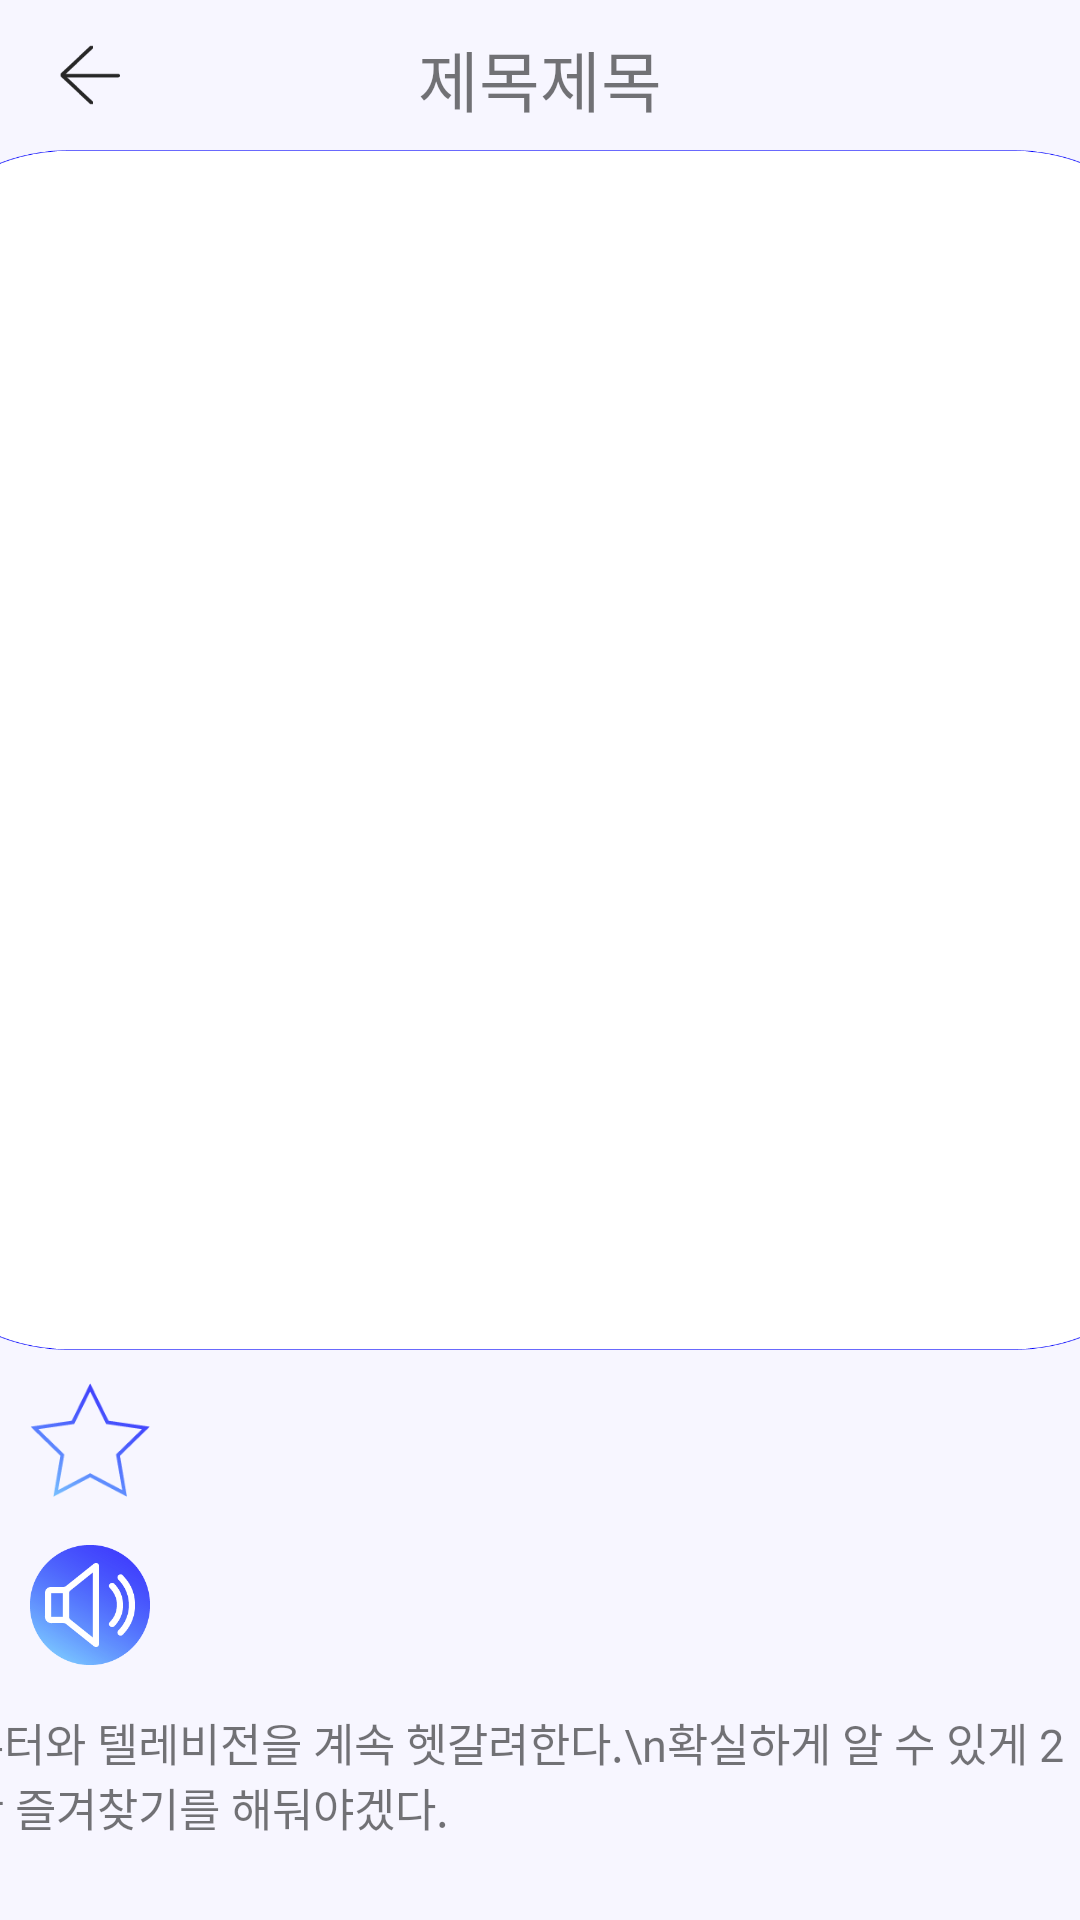

Locate icon controls on the screen. Image size 1080px x 1920px, boxes as (left=x1, top=y1, right=x2, bottom=y2).
backbtn: (left=60, top=45, right=120, bottom=105)
imgstar empty: (left=31, top=1384, right=150, bottom=1497)
soundbtn: (left=30, top=1545, right=150, bottom=1665)
